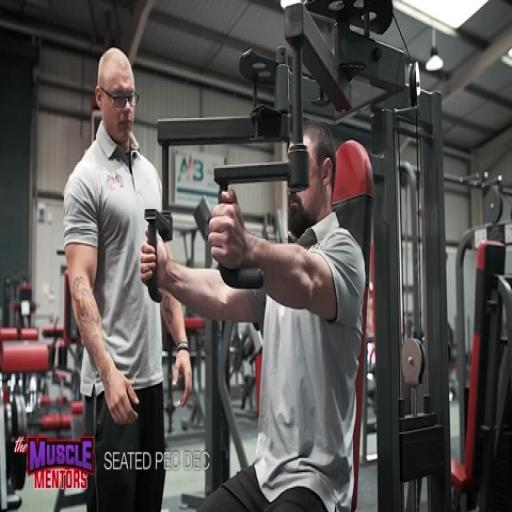exercise: (139, 116, 369, 510), (60, 46, 194, 510)
